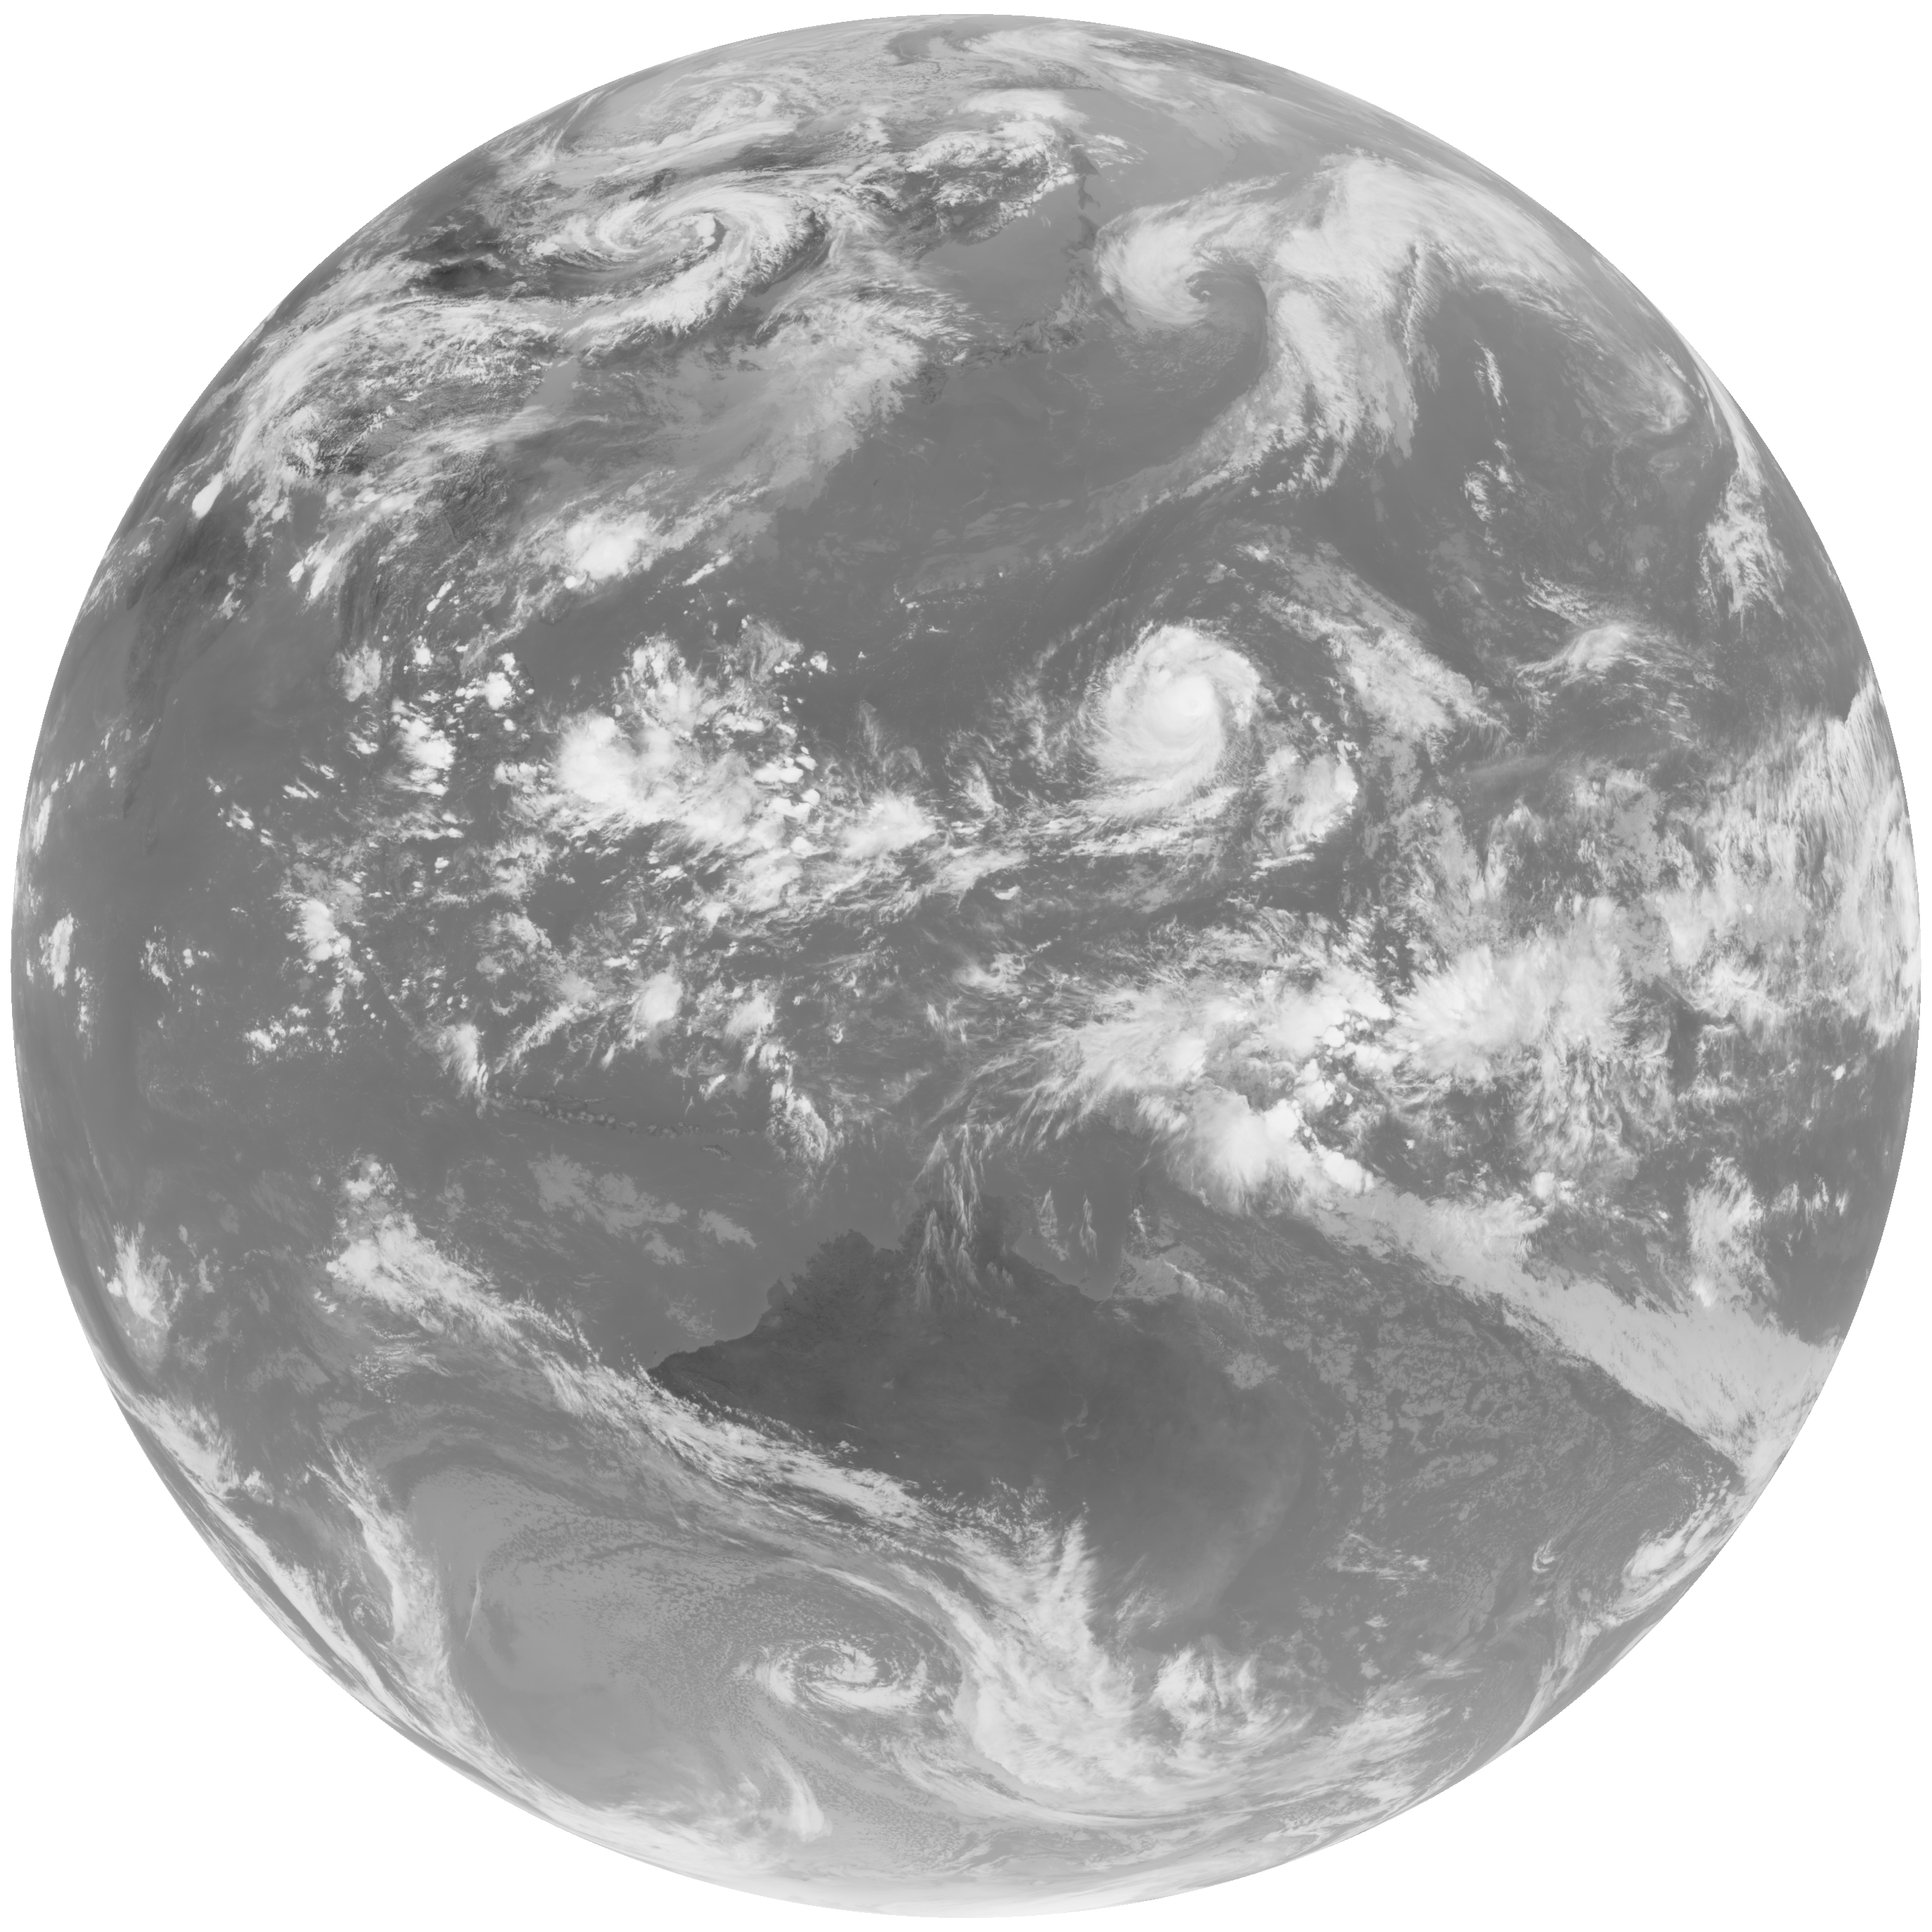typhoon: (925, 561, 1414, 890)
